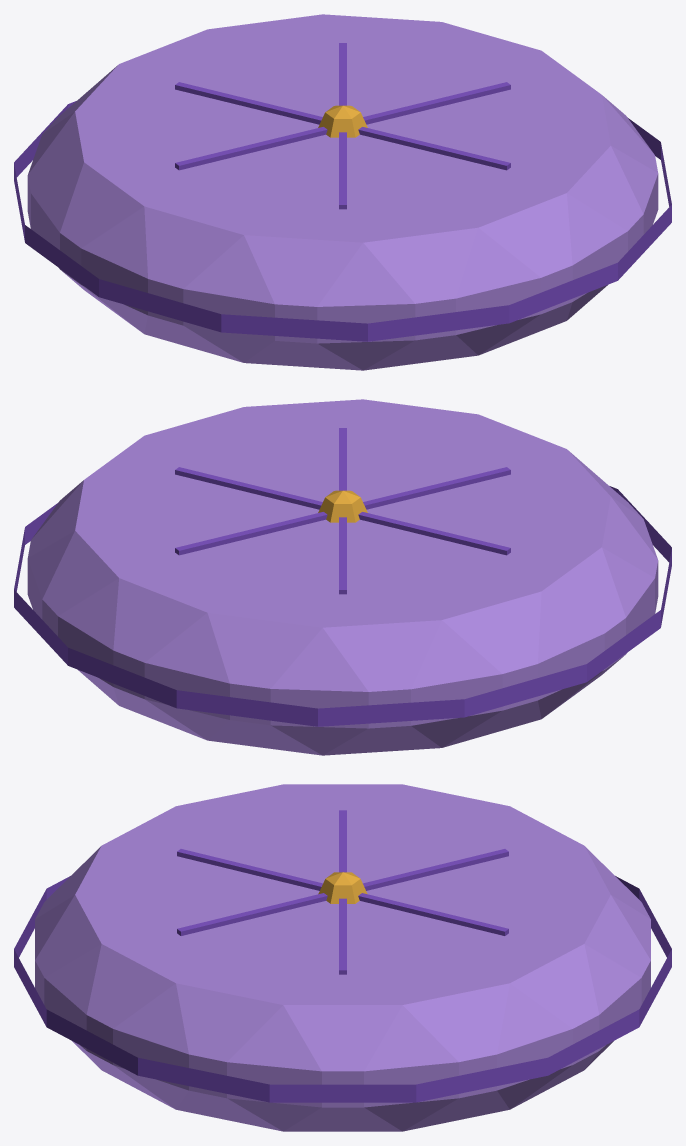
File: floor_cushion.glb
The picture shows the model from 3 angles, top to bottom: view 1: azimuth 30°, elevation 25°; view 2: azimuth 150°, elevation 25°; view 3: azimuth 270°, elevation 25°; orthographic projection.
Parts seen in each view (by area): view 1: floor_cushion; view 2: floor_cushion; view 3: floor_cushion.
Boxes of the visible parts, <box> form: floor_cushion: <box>14,14,671,370</box>; floor_cushion: <box>14,399,671,755</box>; floor_cushion: <box>14,784,671,1131</box>.
Size of the model in its own units: 0.6435 by 0.165 by 0.66.
